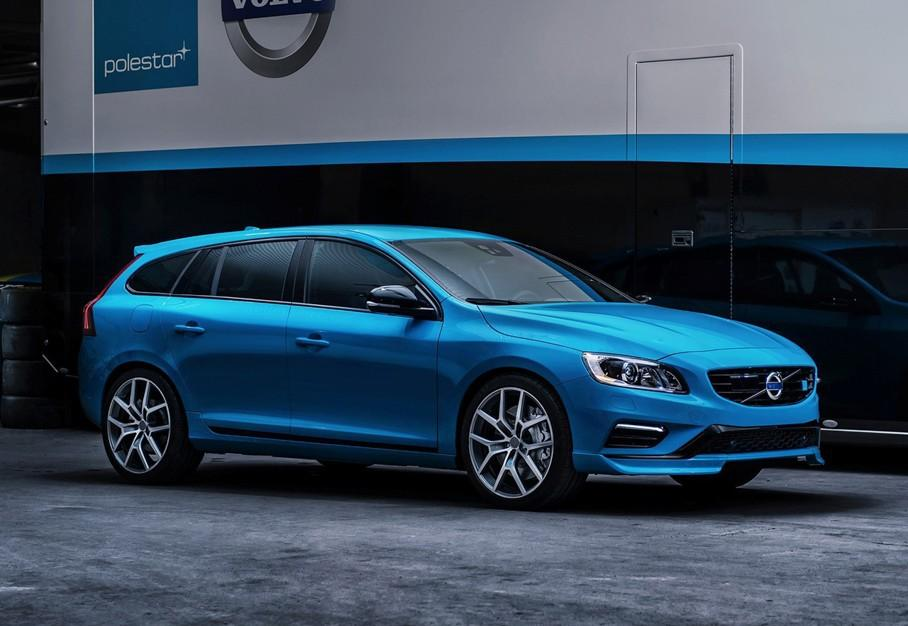Wagon: (79, 226, 825, 509)
